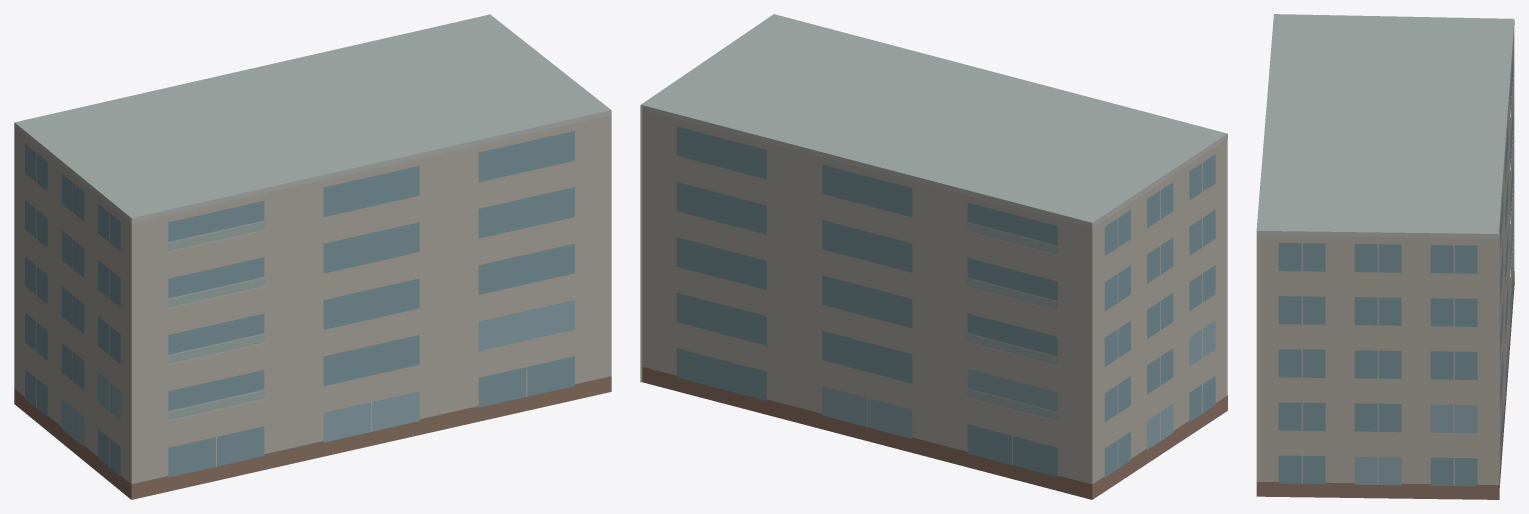
The model's file is survey-upis-32676400.glb.
3 views of the same model, side by side, from view 1: azimuth 30°, elevation 25°; view 2: azimuth 150°, elevation 25°; view 3: azimuth 270°, elevation 25° (orthographic). The views are drawn at different scales.
Visible parts, largest first — view 1: survey-upis-32676400.tmp; view 2: survey-upis-32676400.tmp; view 3: survey-upis-32676400.tmp.
Boxes of the visible parts, box(x1,y1,x2,y2) form: survey-upis-32676400.tmp: box(14, 14, 611, 499); survey-upis-32676400.tmp: box(640, 14, 1227, 499); survey-upis-32676400.tmp: box(1256, 14, 1514, 499).
Size of the model in its own units: 23.98 by 13.5 by 11.88.
